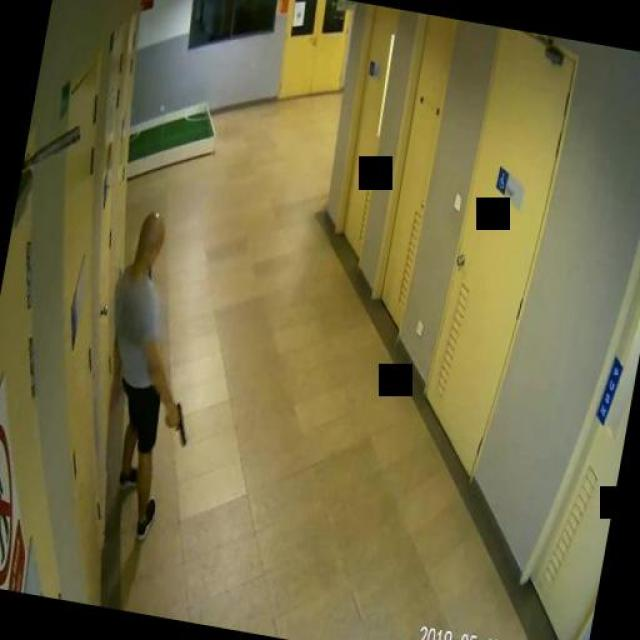gun: (161, 396, 190, 445)
